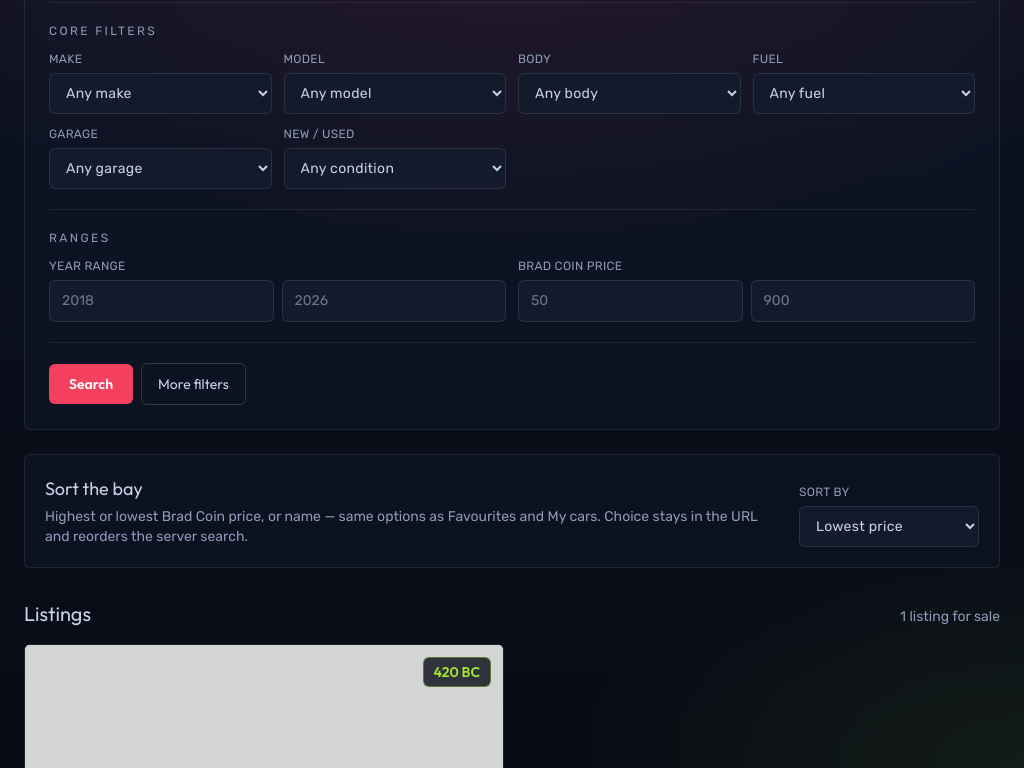
Scenario: CarsPage Midnight Garage UI › shows bay hierarchy, filter panel sections, and keeps media listings
(page scrolled)
Expected: the text "Core filters" is shown, [49,24,157,38]
Expected: the text "Ranges" is shown, [49,231,110,245]
Click the button "More filters".
click(193, 384)  # box [141,363,246,405]
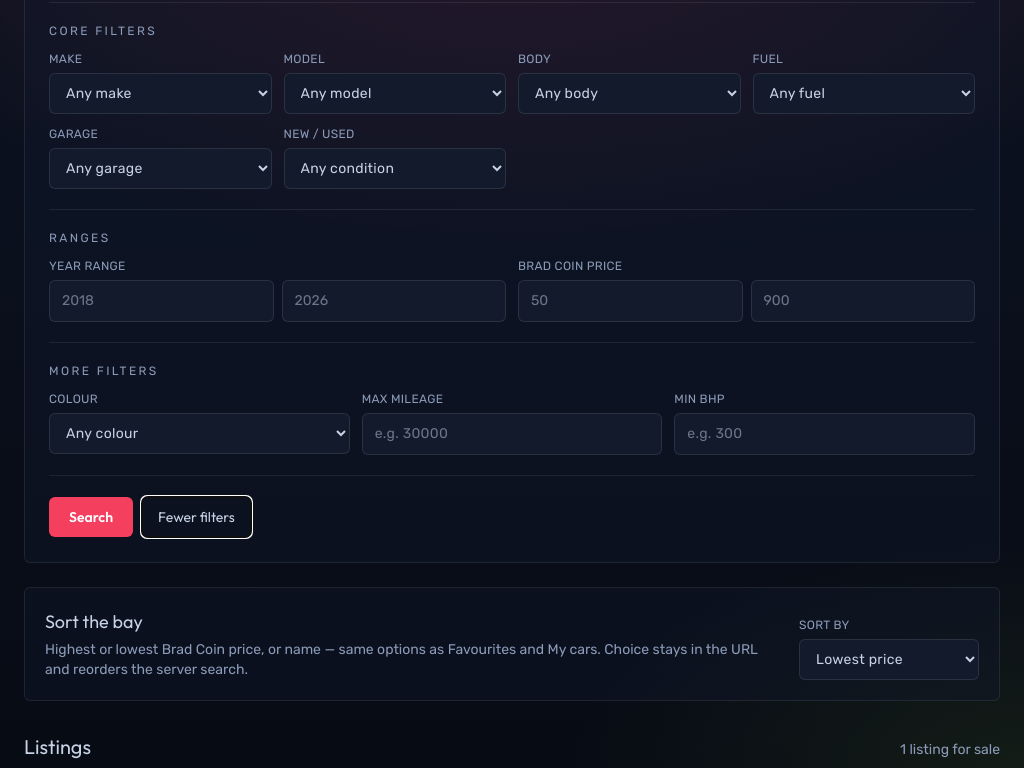
Expected: the dropdown labelled "Colour" is shown, [49,413,350,454]
